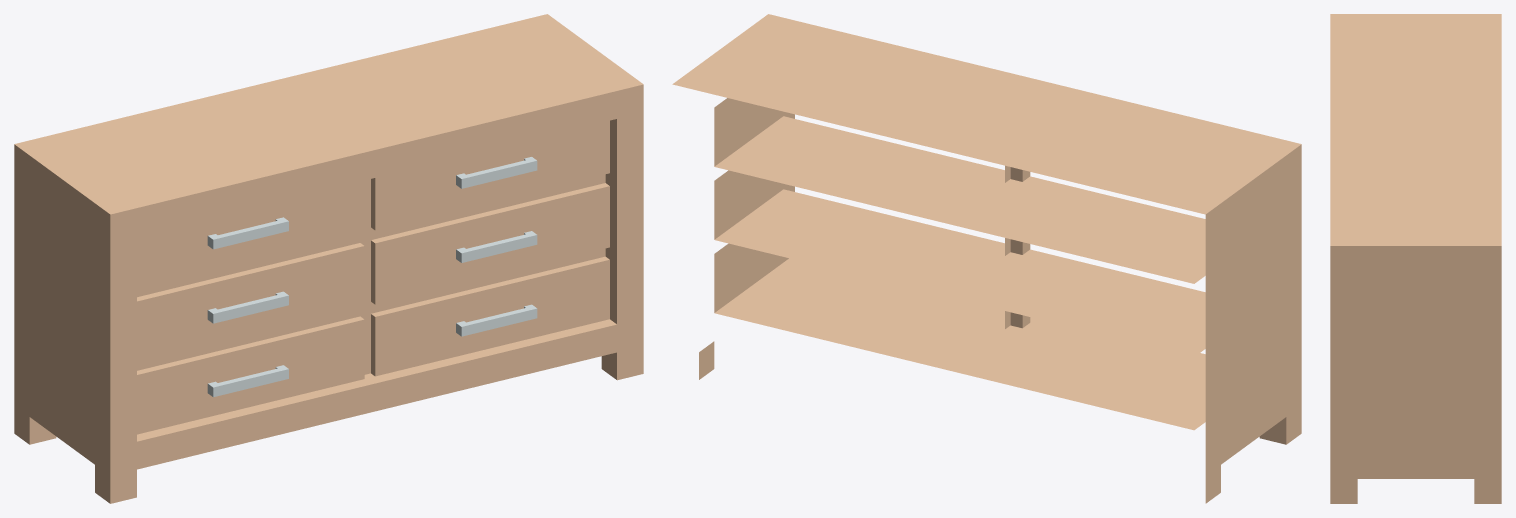
Rendered from cassettiera.glb.
3 views of the same model, side by side, from view 1: azimuth 30°, elevation 25°; view 2: azimuth 150°, elevation 25°; view 3: azimuth 270°, elevation 25° (orthographic). The views are drawn at different scales.
Visible parts, largest first — view 1: cabinetTelevision(Clone), drawerTop.004, drawerTop.006, drawerTop.003, drawerTop.005, drawerTop.001, drawerTop.002; view 2: cabinetTelevision(Clone); view 3: cabinetTelevision(Clone).
Boxes of the visible parts, x1,y1,x2,y2 form: cabinetTelevision(Clone): (14, 14, 643, 503); drawerTop.004: (371, 183, 609, 304); drawerTop.006: (371, 256, 609, 376); drawerTop.003: (137, 243, 364, 362); drawerTop.005: (137, 316, 364, 434); drawerTop.001: (371, 120, 609, 230); drawerTop.002: (137, 180, 364, 288); cabinetTelevision(Clone): (672, 14, 1301, 503); cabinetTelevision(Clone): (1330, 14, 1501, 503).
Bounding box in the file's own units: 0.8 × 0.4148 × 0.25.
